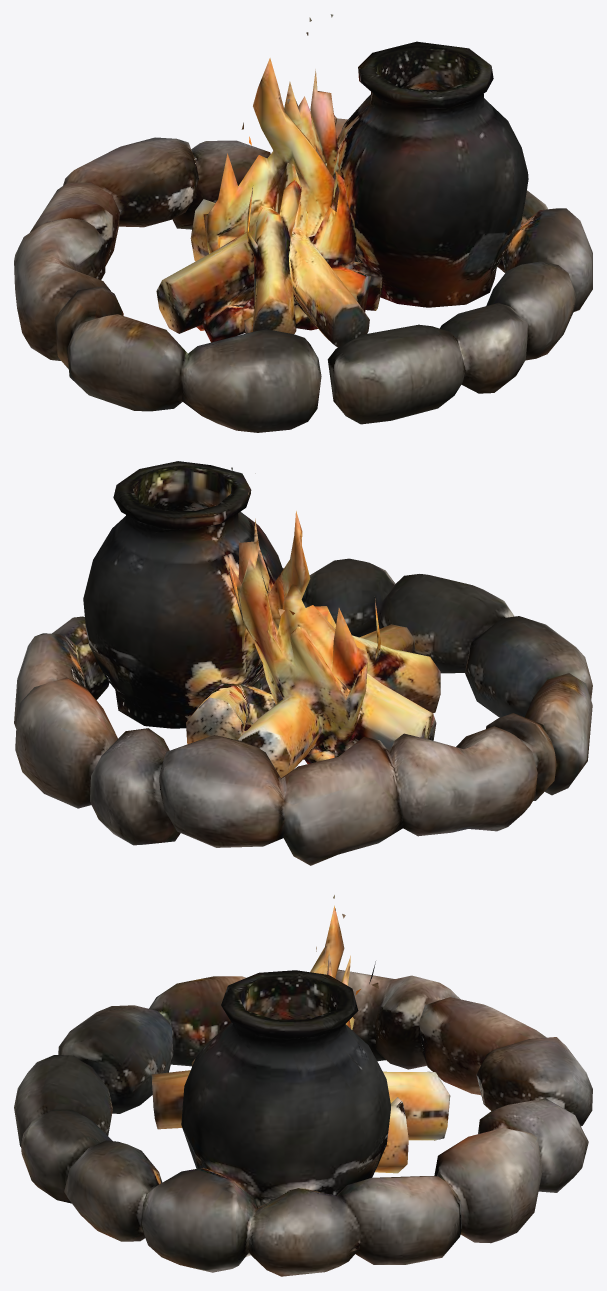
File: gourd-prop-hearth-3d.glb
3 renders of one model, top to bottom at view 1: azimuth 30°, elevation 25°; view 2: azimuth 150°, elevation 25°; view 3: azimuth 270°, elevation 25°, orthographic.
Visible parts, largest first — view 1: low; view 2: low; view 3: low.
Part boxes in pixels (left/top/right/bottom): low: left=14, top=14, right=592, bottom=432; low: left=14, top=461, right=592, bottom=865; low: left=14, top=895, right=592, bottom=1276.
Size of the model in its own units: 0.1005 by 0.0552 by 0.1001.
1 material, 1 textured.
